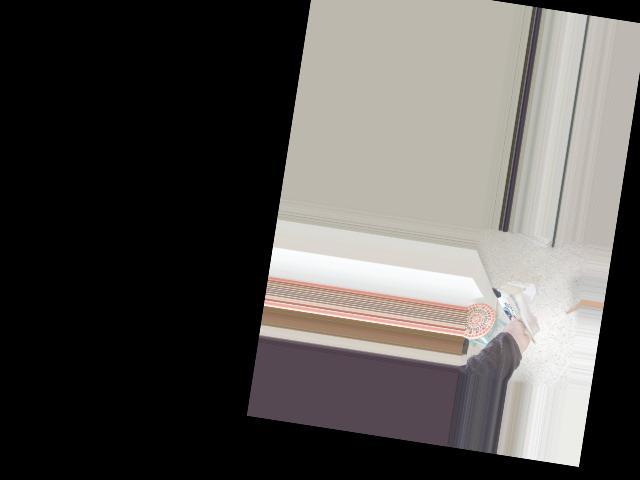cheese: (475, 271, 553, 355)
